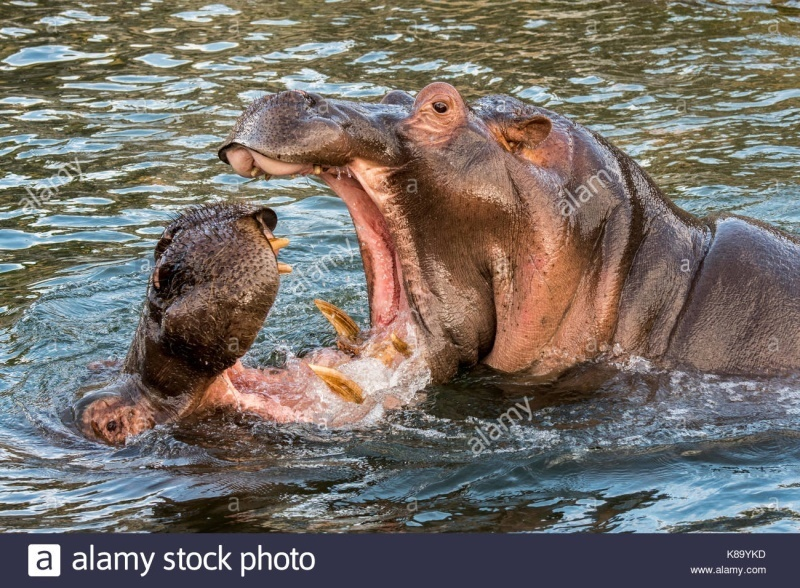hipopotamo: (214, 77, 782, 385), (64, 187, 430, 472)
